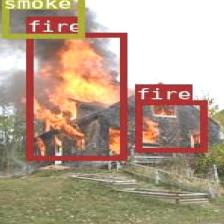fire: (24, 32, 125, 160), (134, 100, 205, 151)
smoke: (1, 0, 82, 37)
